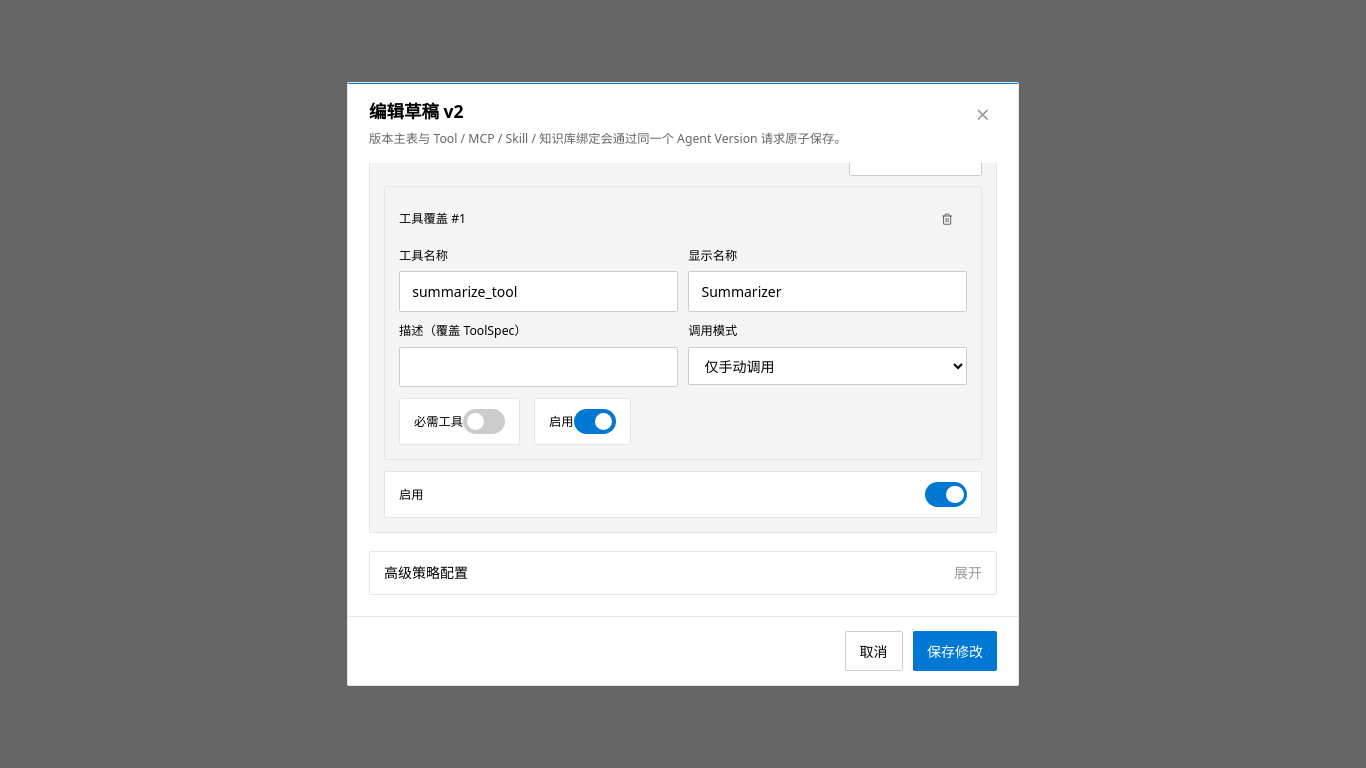
Test case: VersionDrawer › labels advanced guardrails policy as agent-local only
(page scrolled)
Click the button "高级策略配置 展开". click: (426, 573)
box: [370,552,996,594]
(page scrolled)
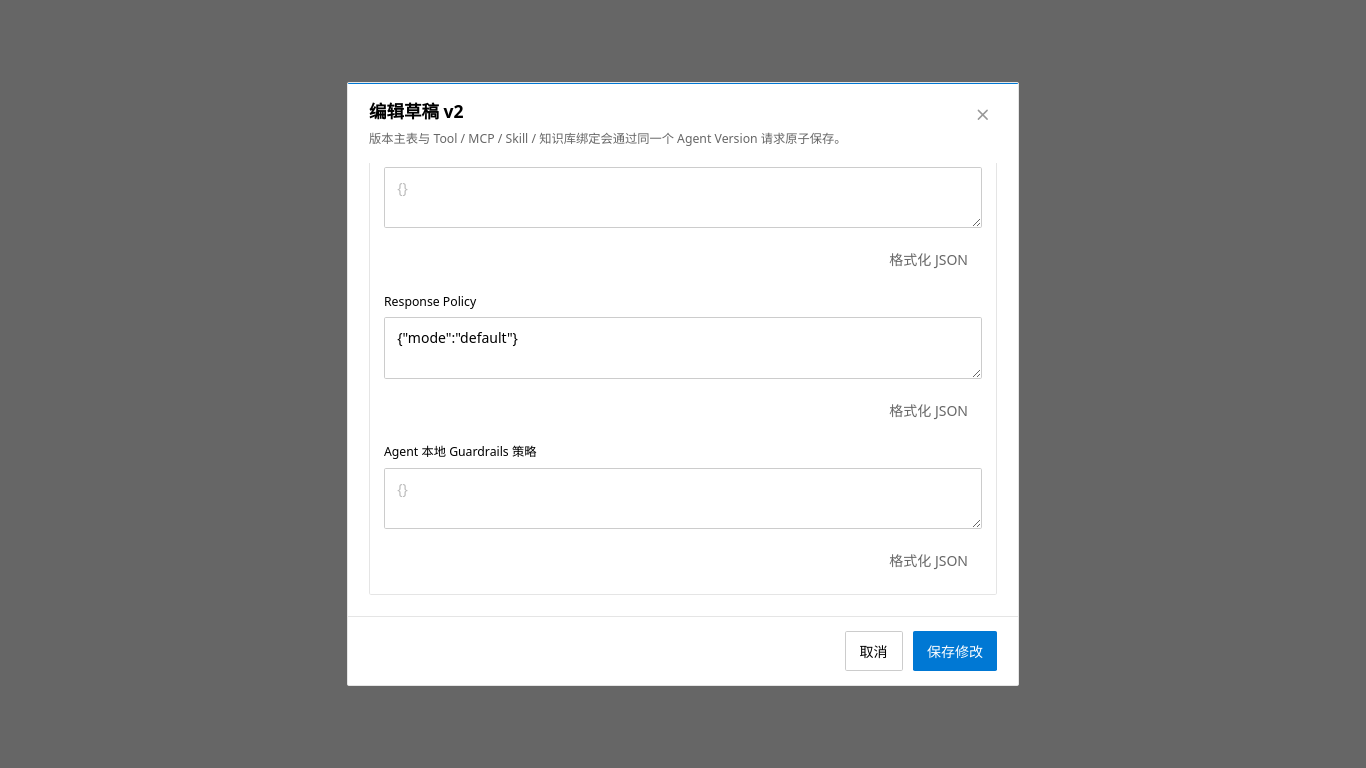
Result: the text box labelled "Agent 本地 Guardrails 策略" is shown at [384,468,982,529]
